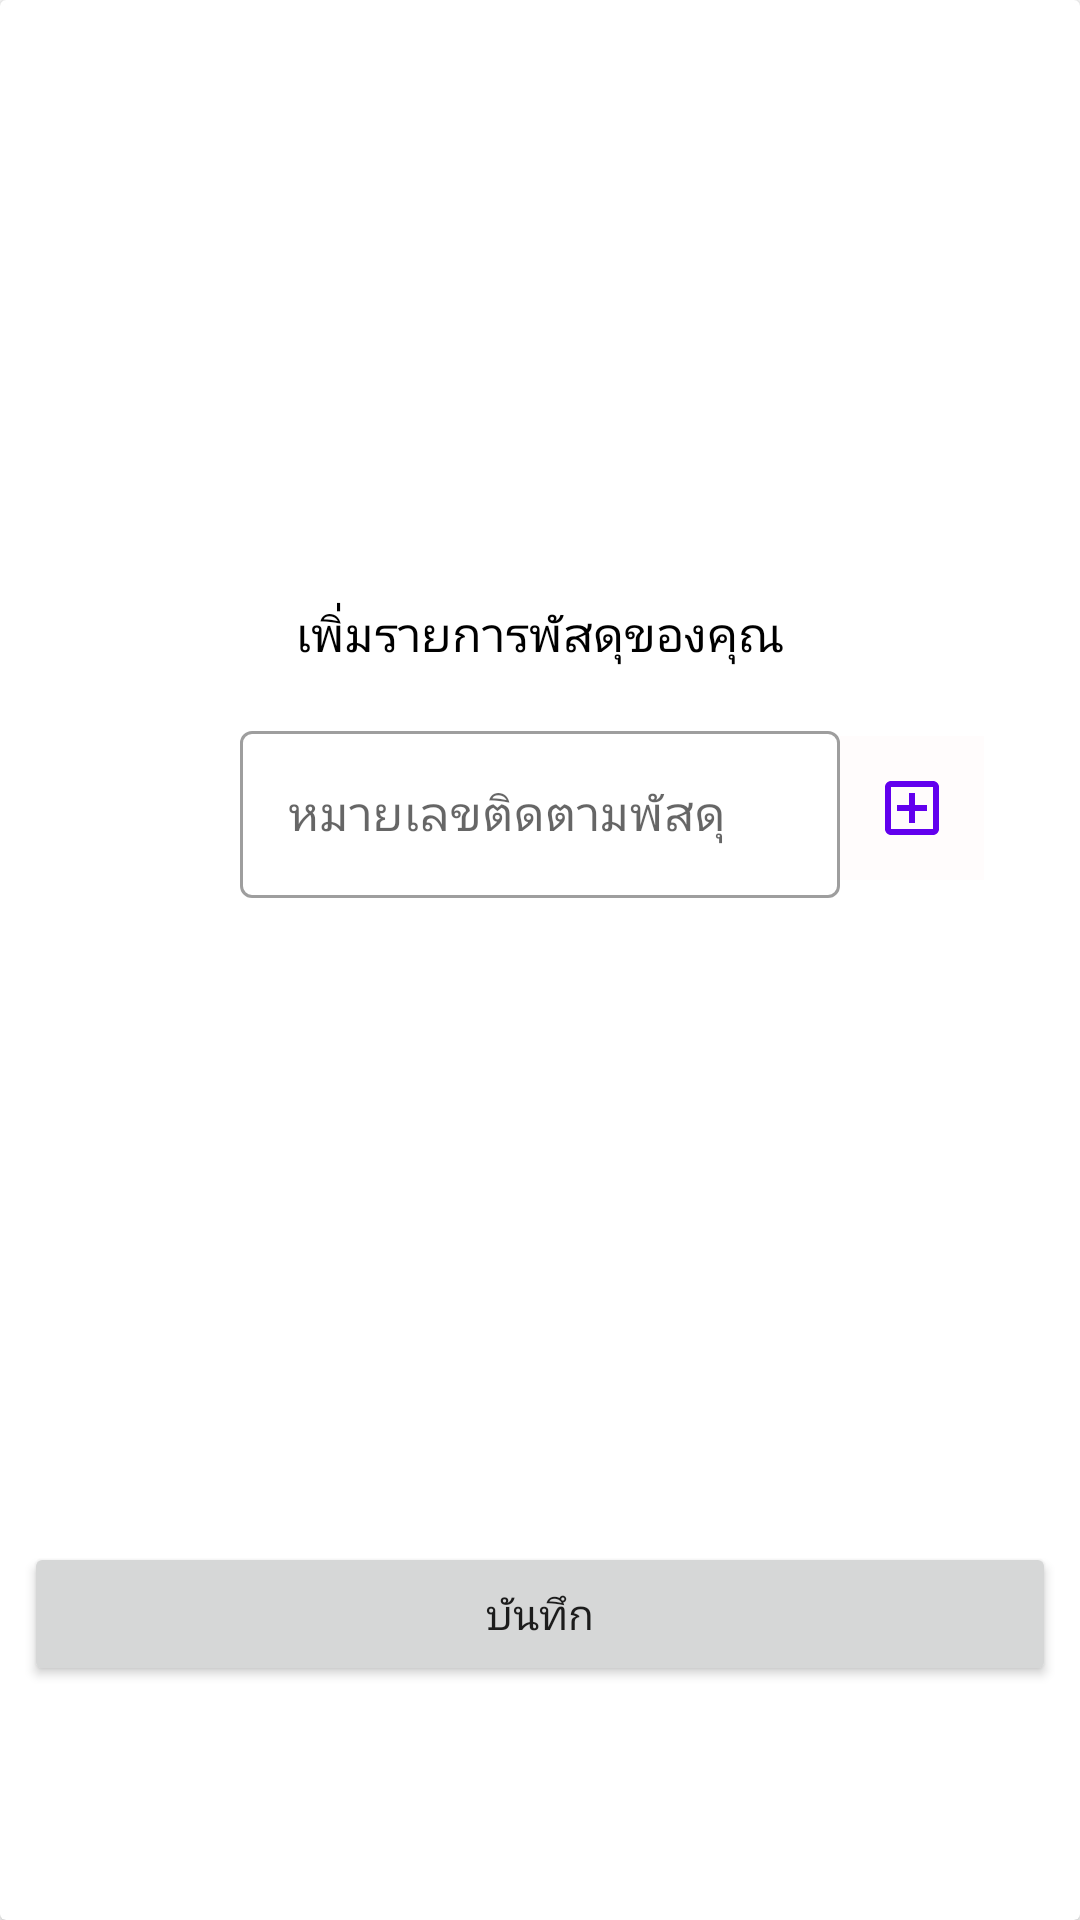

Icon click points for this 1080 × 1920 phone screenshot, format (x=x, y=y):
add box: (x=912, y=808)
